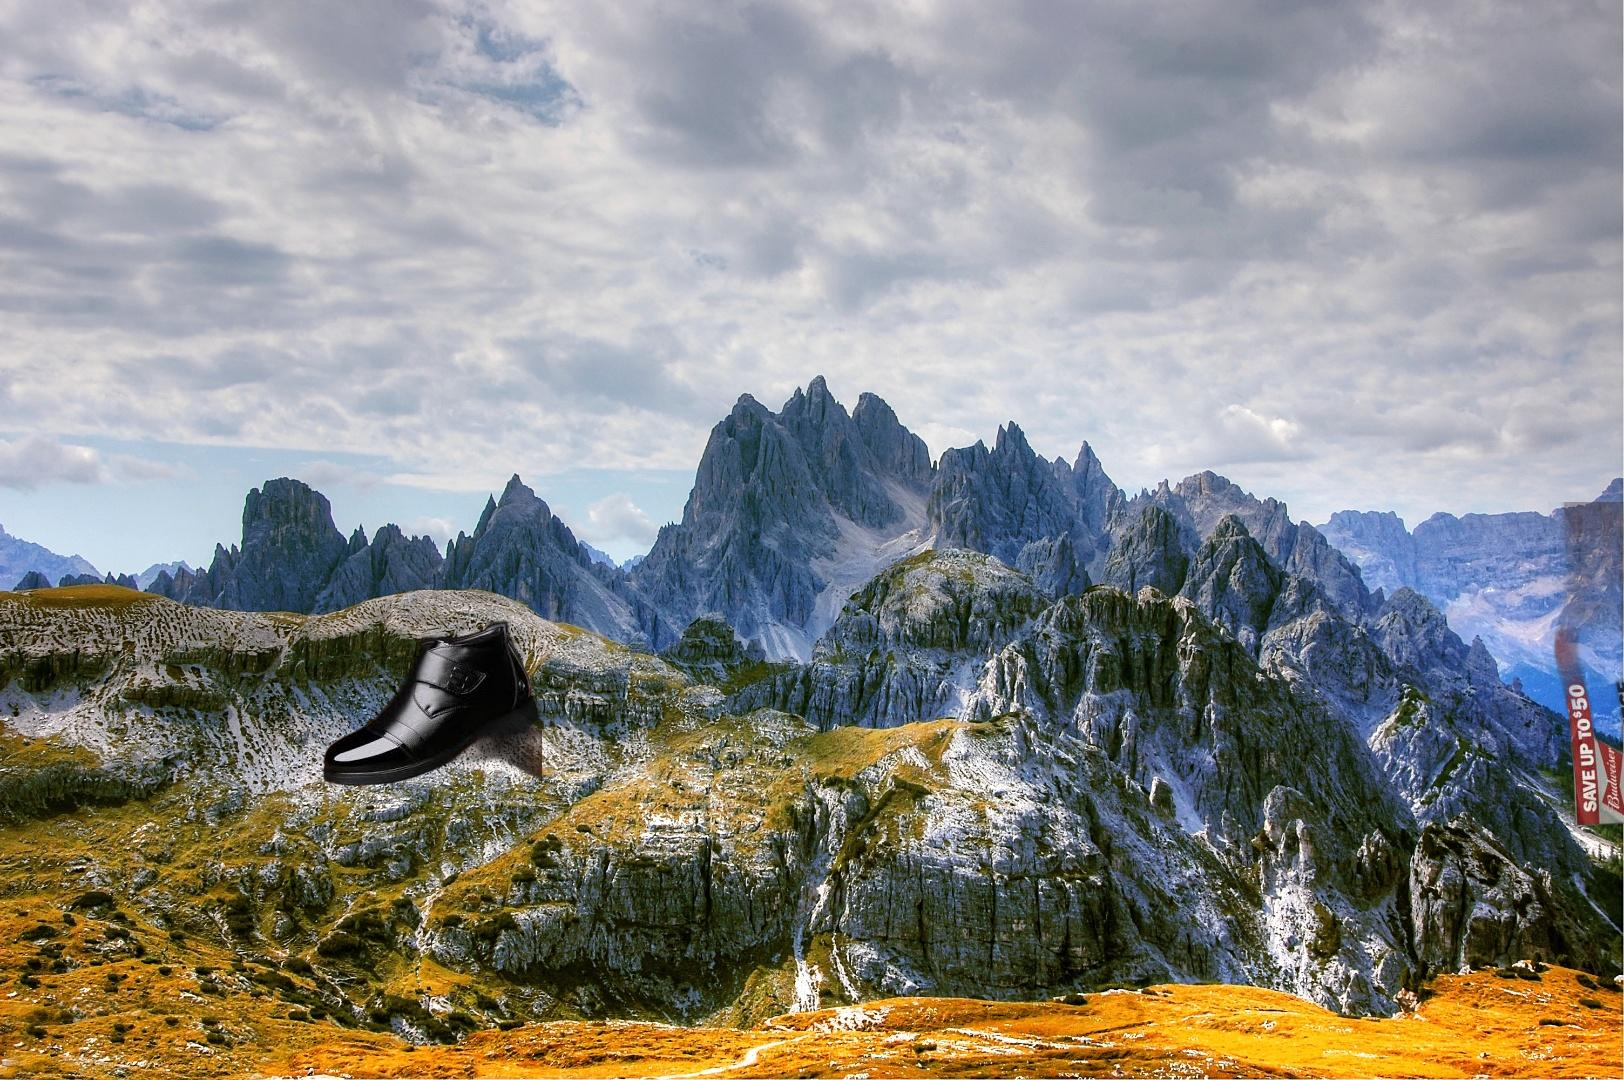paper: (1548, 501, 1624, 830)
shoes: (320, 618, 542, 814)
